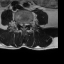CCS_stenosis: (23, 22, 24, 30)
LFS_normal: (26, 21, 29, 26)
LLS_normal: (24, 21, 26, 28)
RFS_stenosis: (18, 20, 21, 26)
RLS_normal: (21, 21, 23, 28)
